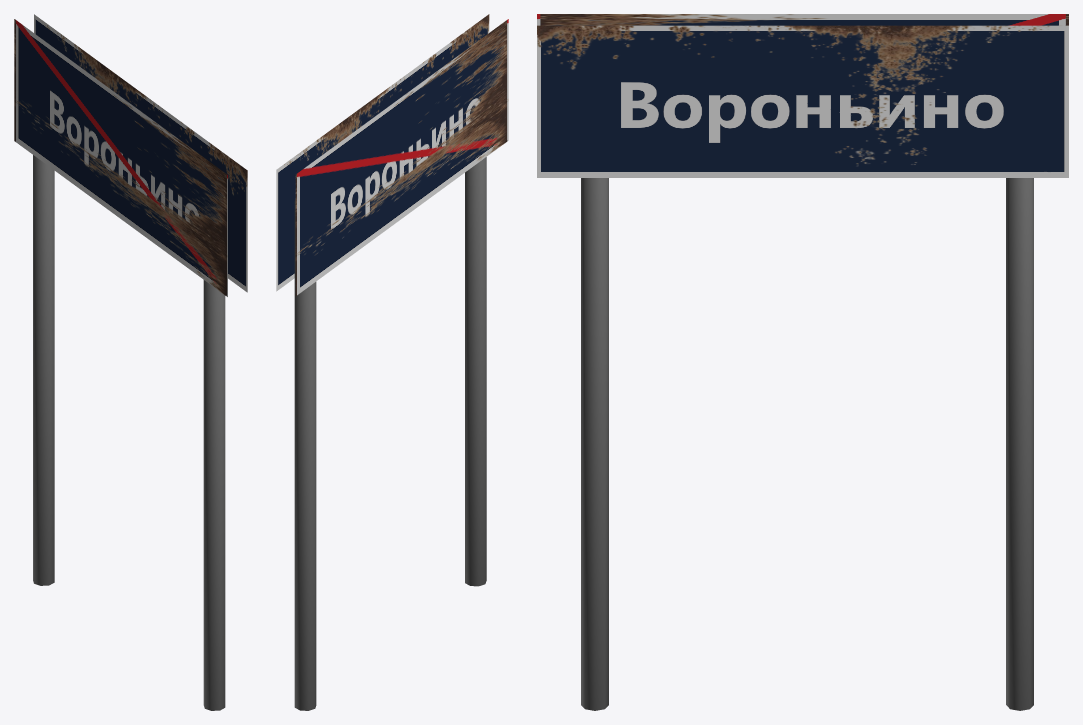
File: VaroninoTable.glb
3 renders of one model, left to right at view 1: azimuth 30°, elevation 25°; view 2: azimuth 150°, elevation 25°; view 3: azimuth 270°, elevation 25°, orthographic. The views are drawn at different scales.
Visible parts, largest first — view 1: Plane.001, Circle, Plane; view 2: Plane.001, Circle, Plane; view 3: Plane, Circle, Plane.001.
Part boxes in pixels (x1,y1,x2,y2): Plane.001: [14, 19, 227, 296]; Circle: [33, 155, 225, 710]; Plane: [34, 14, 247, 292]; Plane.001: [295, 19, 508, 295]; Circle: [294, 157, 486, 710]; Plane: [276, 14, 489, 291]; Plane: [537, 25, 1068, 177]; Circle: [581, 178, 1033, 710]; Plane.001: [537, 14, 1068, 25].
Size of the model in its own units: 0.2 by 5.4 by 3.8.
Materials: 3 (2 with a texture image).
